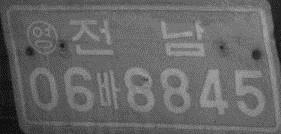0: (28, 66, 59, 112)
4: (198, 69, 228, 115)
5: (233, 68, 265, 118)
6: (62, 65, 95, 114)
8: (123, 66, 156, 114), (158, 67, 191, 115)
바: (96, 69, 119, 110)
영: (25, 19, 59, 55)
전남_D: (68, 17, 207, 58)
